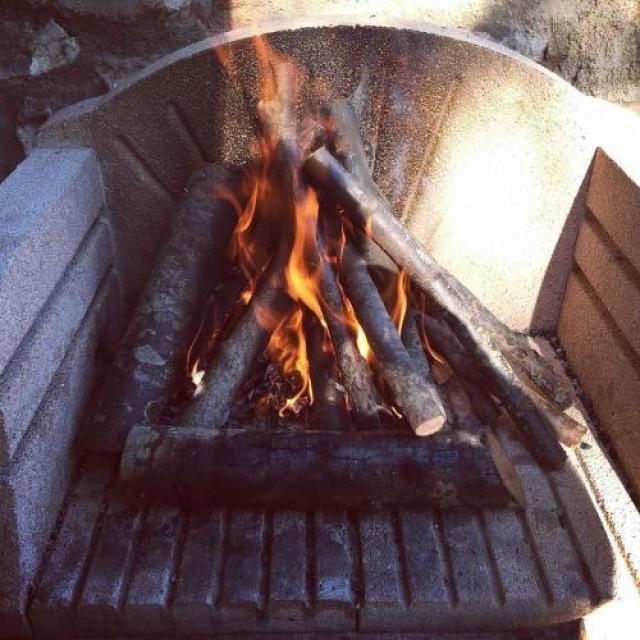Fire: (216, 26, 372, 420), (390, 261, 444, 366), (190, 358, 204, 396)
